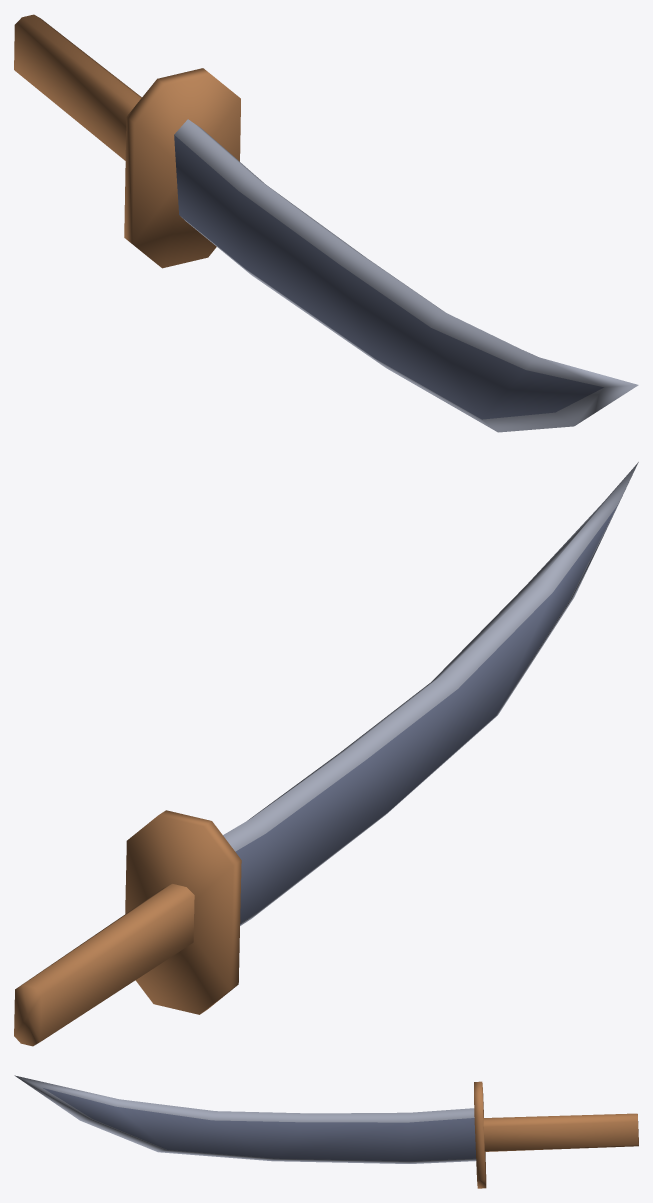
File: W_Dou_DouKinf.FBX
3 renders of one model, top to bottom at view 1: azimuth 30°, elevation 25°; view 2: azimuth 150°, elevation 25°; view 3: azimuth 270°, elevation 25°, orthographic. The views are drawn at different scales.
Parts seen in each view (by area): view 1: Avata-D21-body_wuqi; view 2: Avata-D21-body_wuqi; view 3: Avata-D21-body_wuqi.
Boxes of the visible parts, <box> form: Avata-D21-body_wuqi: <box>14,14,638,432</box>; Avata-D21-body_wuqi: <box>14,462,638,1046</box>; Avata-D21-body_wuqi: <box>14,1075,638,1188</box>.
Size of the model in its own units: 0.0863 by 0.1627 by 0.857.
